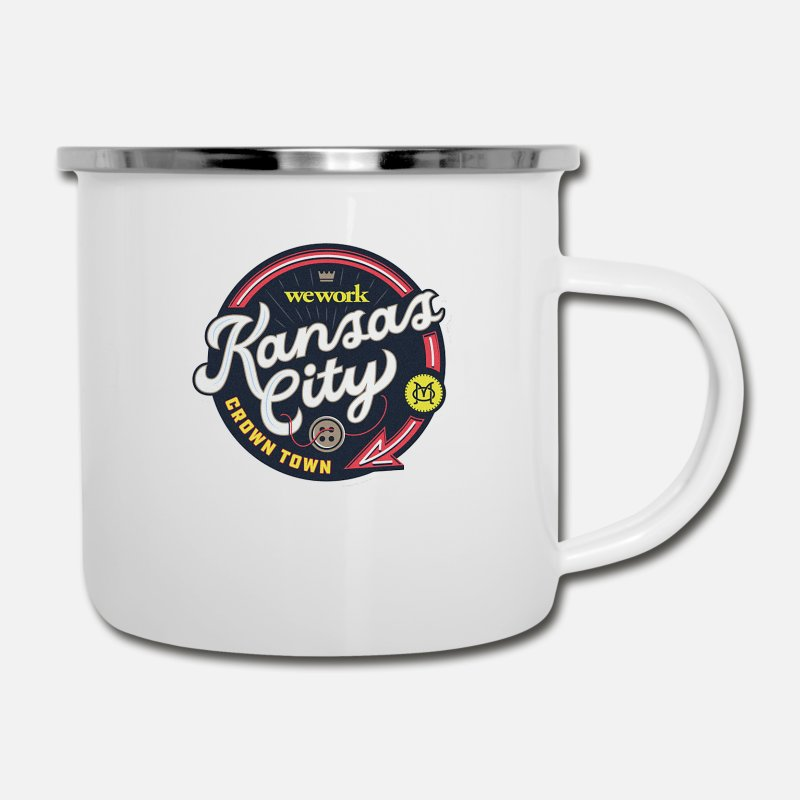wework: (281, 283, 373, 305)
